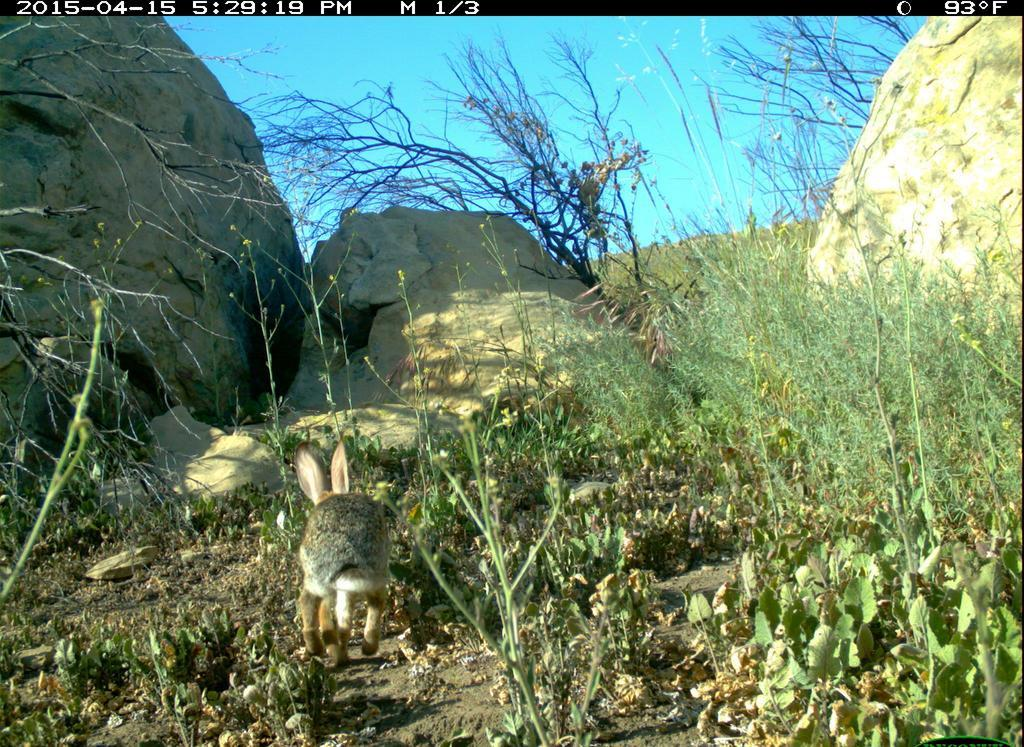rabbit: (283, 436, 404, 671)
